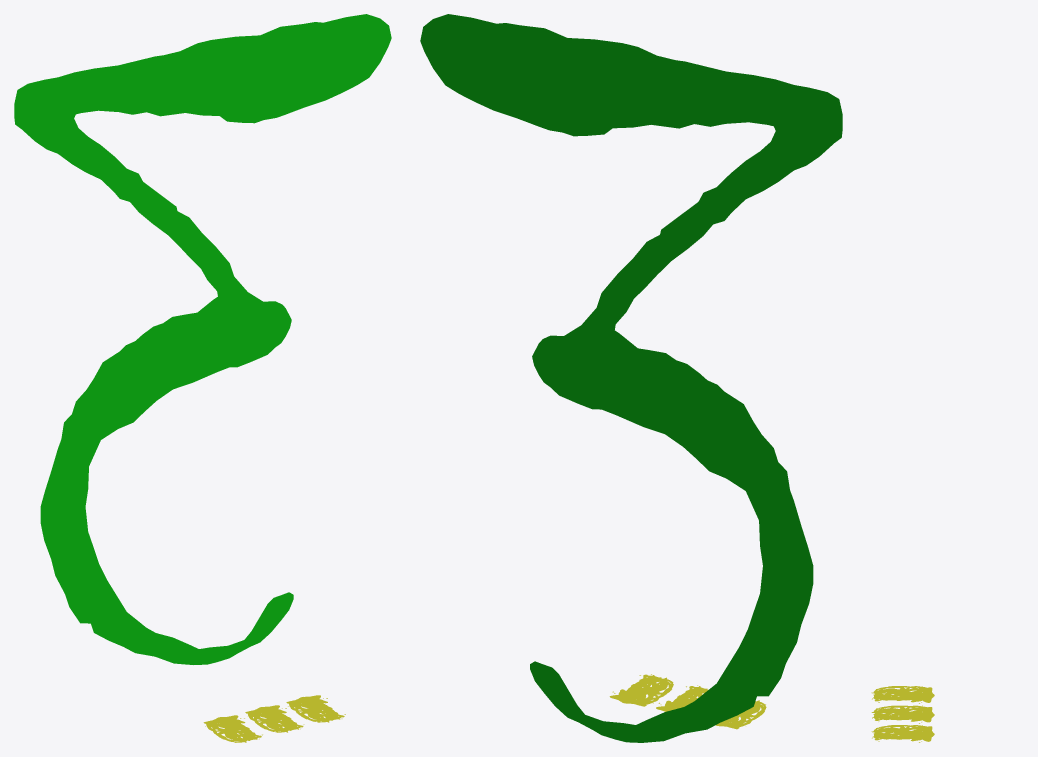
The model's file is hsthree.obj.
3 renders of one model, left to right at view 1: azimuth 30°, elevation 25°; view 2: azimuth 150°, elevation 25°; view 3: azimuth 270°, elevation 25°, orthographic. The views are drawn at different scales.
Parts seen in each view (by area): view 1: hsthree.008; view 2: hsthree.008; view 3: no part large enough to name.
Boxes of the visible parts, box(x1,y1,x2,y2) form: hsthree.008: box(14, 14, 391, 664); hsthree.008: box(420, 14, 842, 742).
Size of the model in its own units: 0.3631 by 0.584 by 0.1315.
